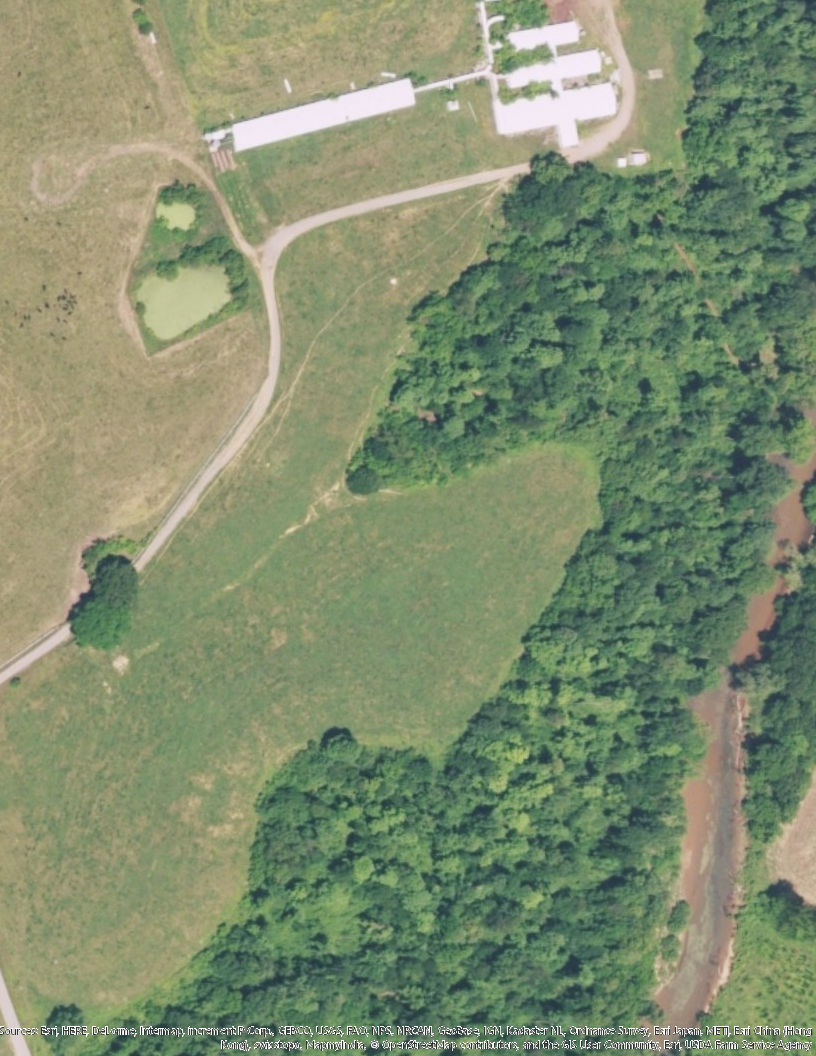cafo: (215, 76, 416, 157)
